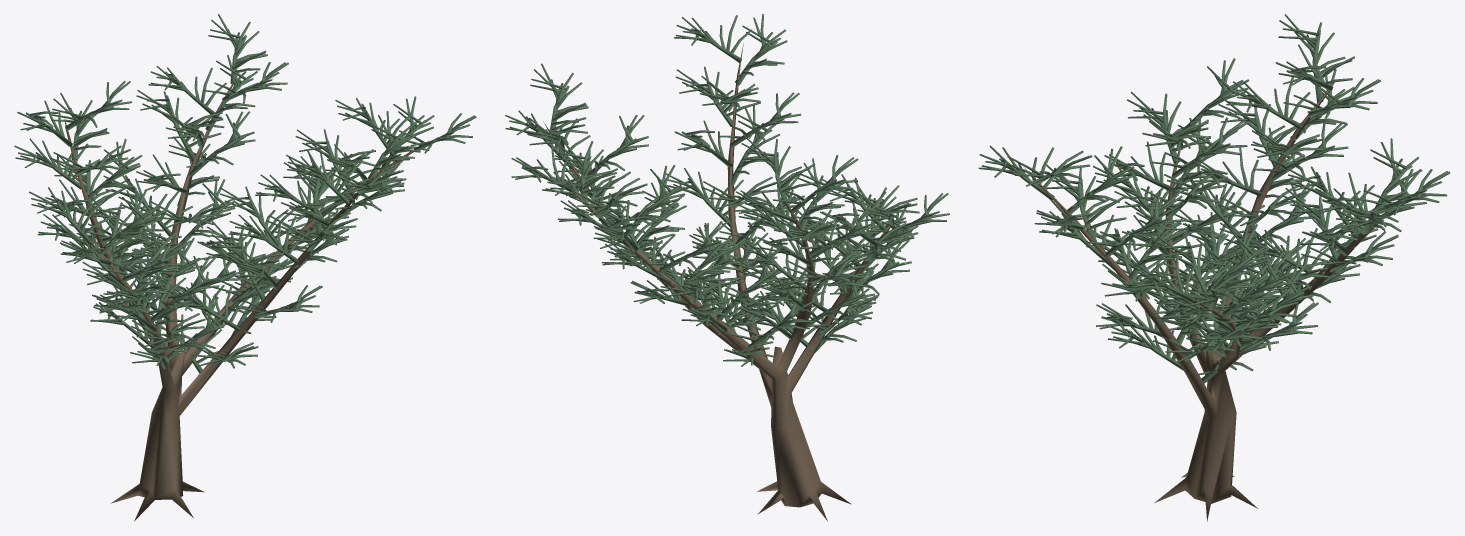
The model's file is Genevrier_2_Niveau0.fbx.
3 renders of one model, left to right at view 1: azimuth 30°, elevation 25°; view 2: azimuth 150°, elevation 25°; view 3: azimuth 270°, elevation 25°, orthographic. The views are drawn at different scales.
Visible parts, largest first — view 1: Genevrier_2_Niveau0_Jeu; view 2: Genevrier_2_Niveau0_Jeu; view 3: Genevrier_2_Niveau0_Jeu.
Part boxes in pixels (x1,y1,x2,y2): Genevrier_2_Niveau0_Jeu: (14, 14, 476, 521); Genevrier_2_Niveau0_Jeu: (505, 14, 949, 521); Genevrier_2_Niveau0_Jeu: (978, 14, 1450, 521).
Bounding box in the file's own units: 221 × 200 × 195.
